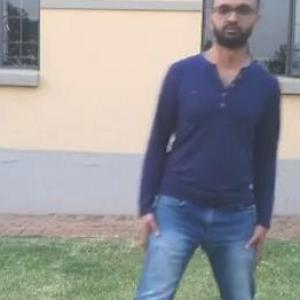follow: (140, 0, 266, 299)
